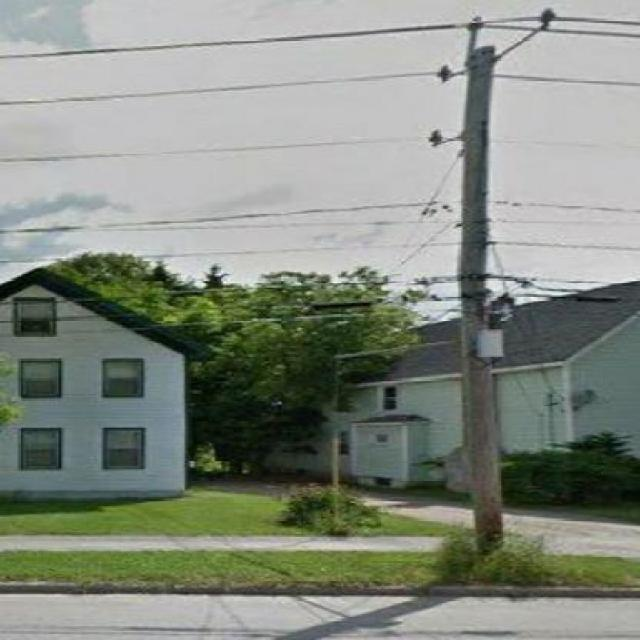pole: (410, 6, 565, 546)
